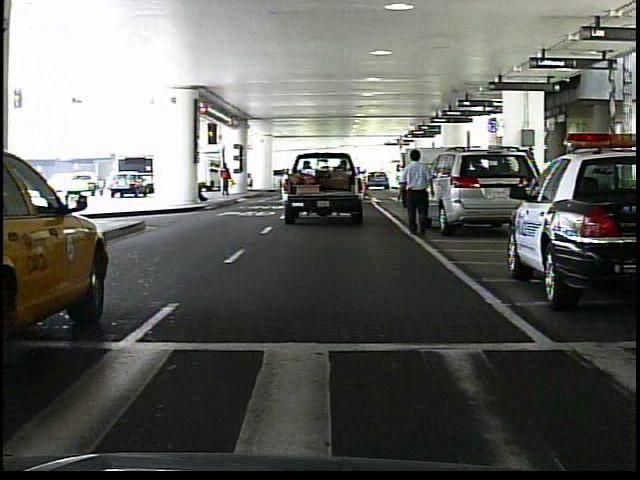person: (395, 143, 439, 238), (219, 161, 236, 198)
